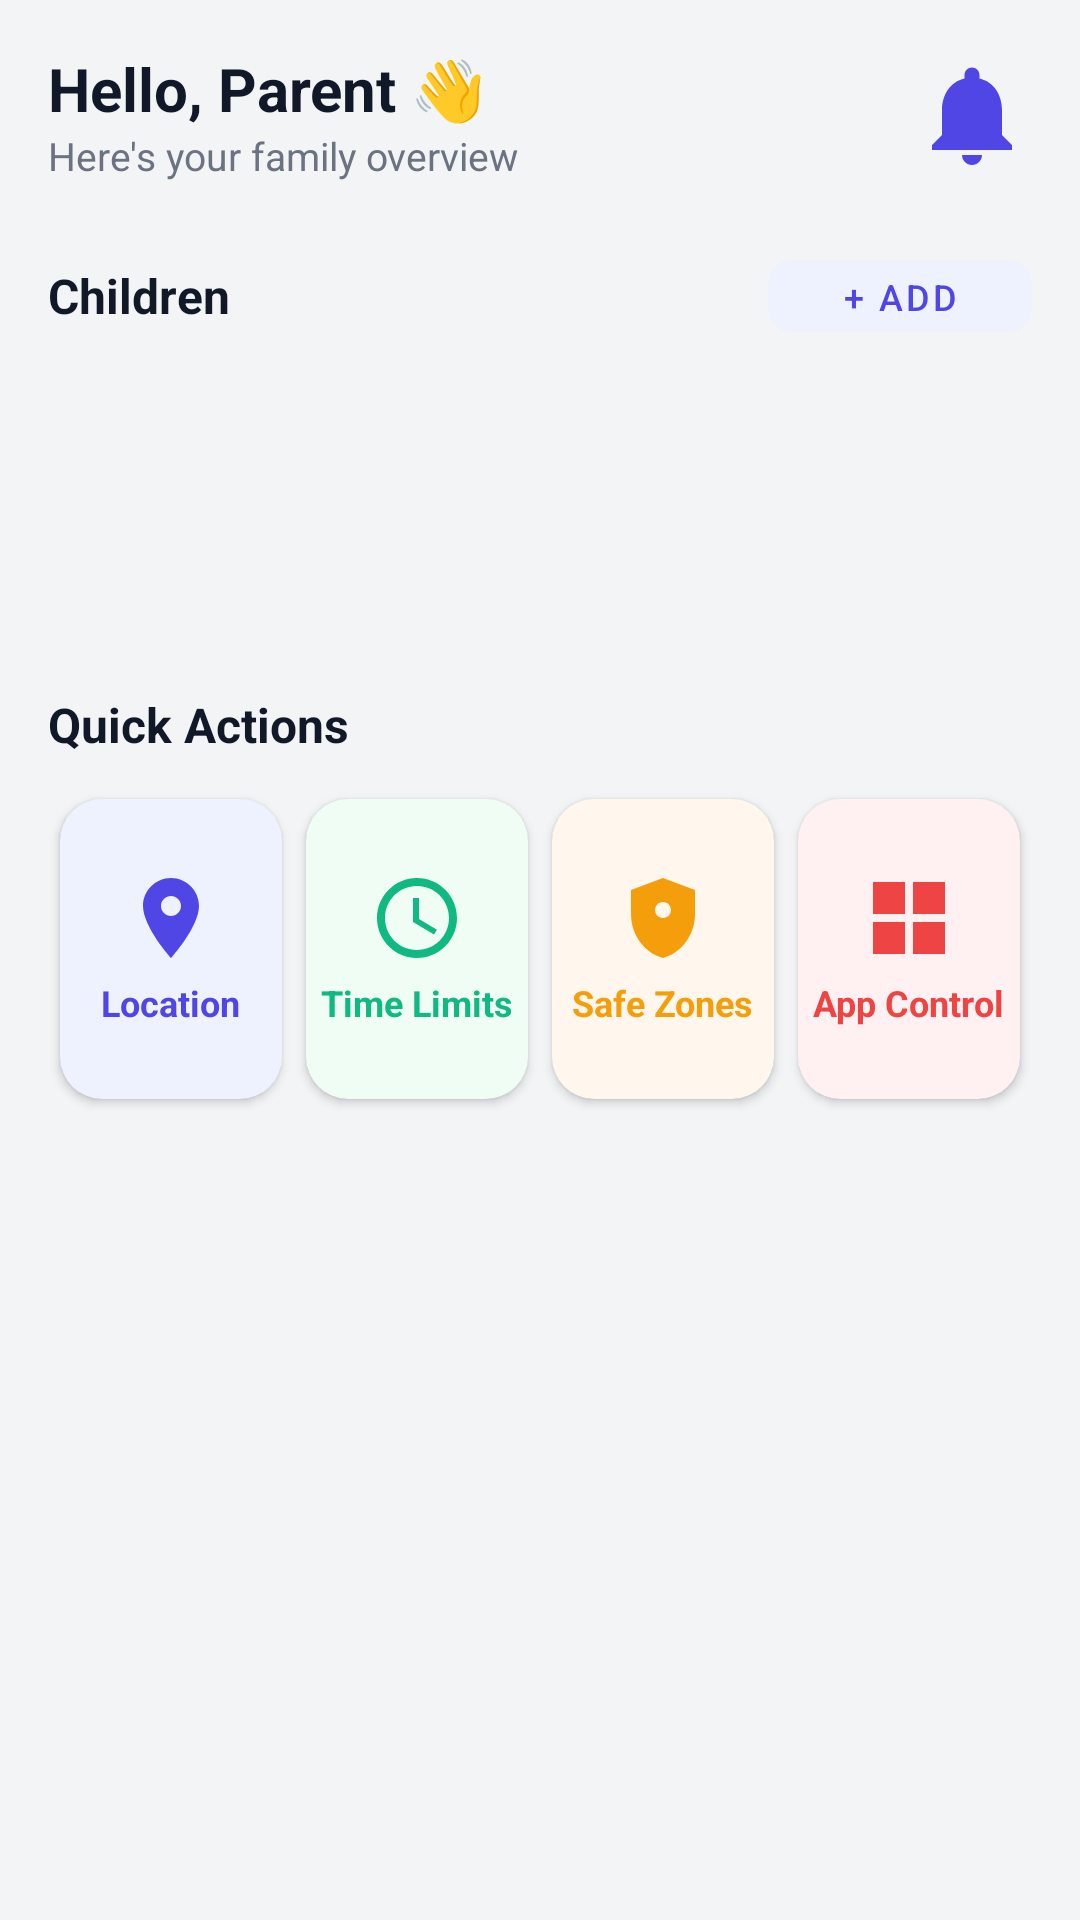

Named icons in this screenshot (1080px×1920px) and their bounding boxes, (x1, y1, x2, y2):
clock: (377, 878, 457, 958)
geofence: (631, 878, 695, 958)
notifications: (932, 67, 1012, 165)
